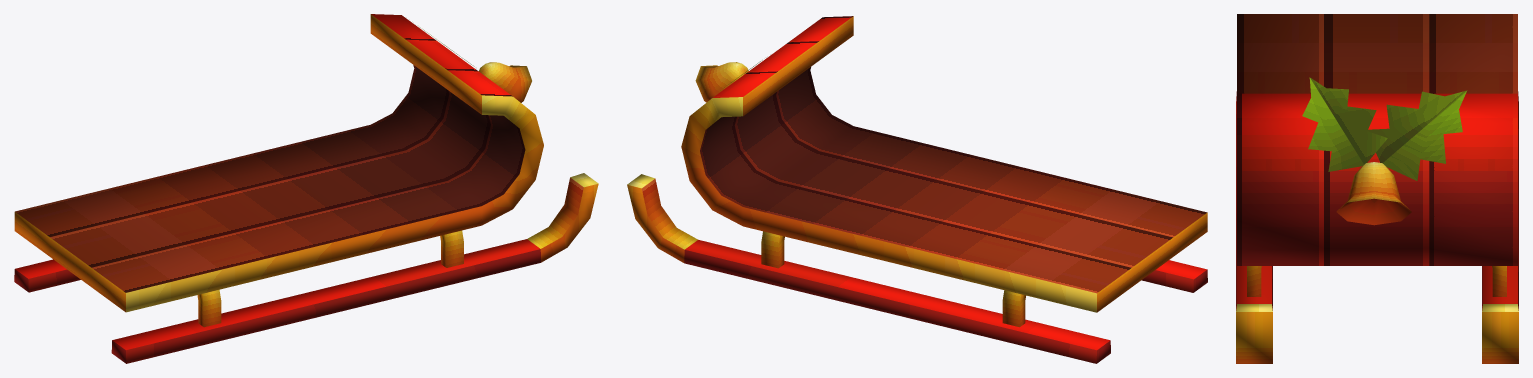
File: SleighBoard.glb
3 views of the same model, side by side, from view 1: azimuth 30°, elevation 25°; view 2: azimuth 150°, elevation 25°; view 3: azimuth 270°, elevation 25° (orthographic). The views are drawn at different scales.
Visible parts, largest first — view 1: SleighBoard; view 2: SleighBoard; view 3: SleighBoard.
Part boxes in pixels (x1,y1,x2,y2): SleighBoard: (14,14,598,363); SleighBoard: (627,16,1207,363); SleighBoard: (1236,14,1518,363).
Size of the model in its own units: 8.72 by 3.55 by 3.58.
1 material, 1 textured.
